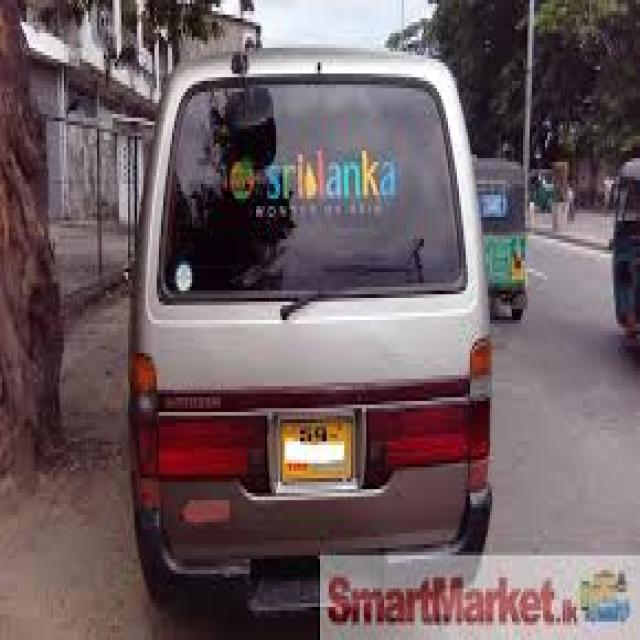van: (130, 51, 490, 633)
